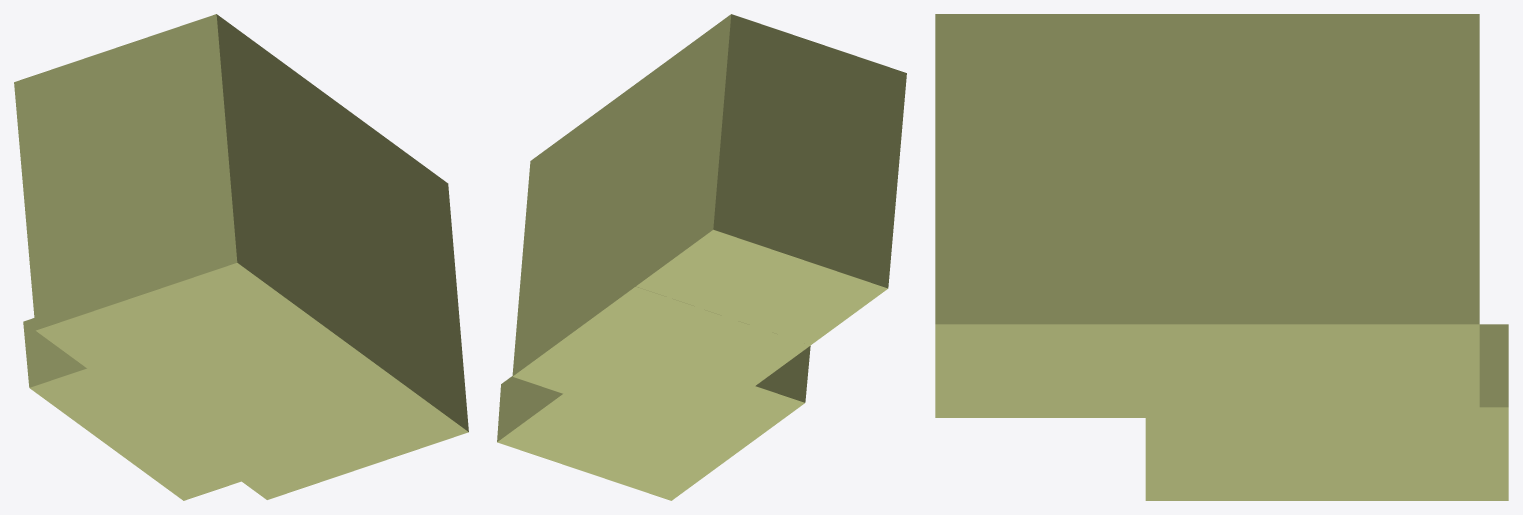
The picture shows the model from 3 angles, left to right: view 1: azimuth 30°, elevation 25°; view 2: azimuth 150°, elevation 25°; view 3: azimuth 270°, elevation 25°; orthographic projection. The views are drawn at different scales.
Parts seen in each view (by area): view 1: 0_2_3_3_3_1_0_2_3_0_1_3; view 2: 0_2_3_3_3_1_0_2_3_0_1_3; view 3: 0_2_3_3_3_1_0_2_3_0_1_3.
Boxes of the visible parts, bbox=[...] form: 0_2_3_3_3_1_0_2_3_0_1_3: bbox=[14, 14, 468, 500]; 0_2_3_3_3_1_0_2_3_0_1_3: bbox=[497, 14, 906, 500]; 0_2_3_3_3_1_0_2_3_0_1_3: bbox=[935, 14, 1508, 500].
Size of the model in its own units: 5.13 by 7.29 by 9.48.
